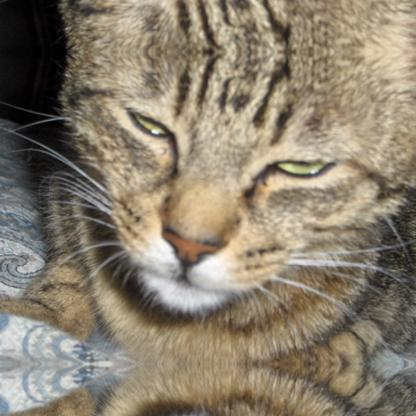Cat: (0, 57, 415, 361)
